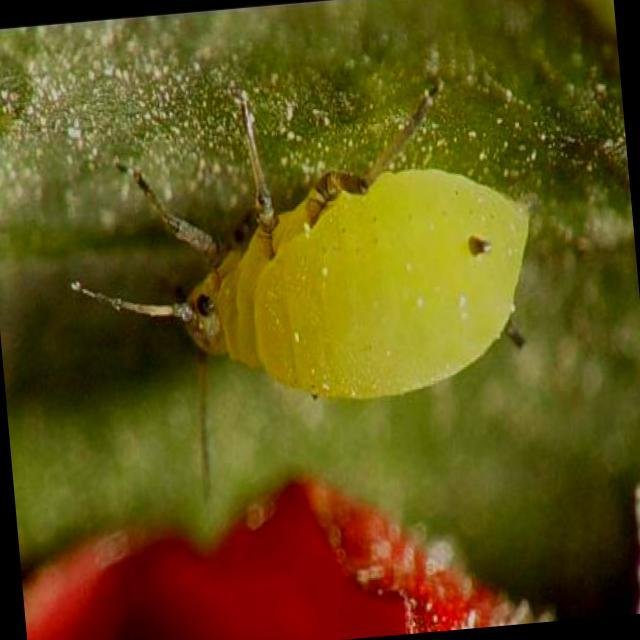aphid: (59, 81, 578, 432)
